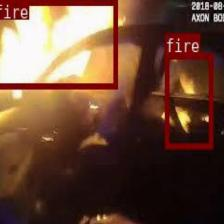fire: (0, 0, 116, 88), (164, 53, 212, 148)
